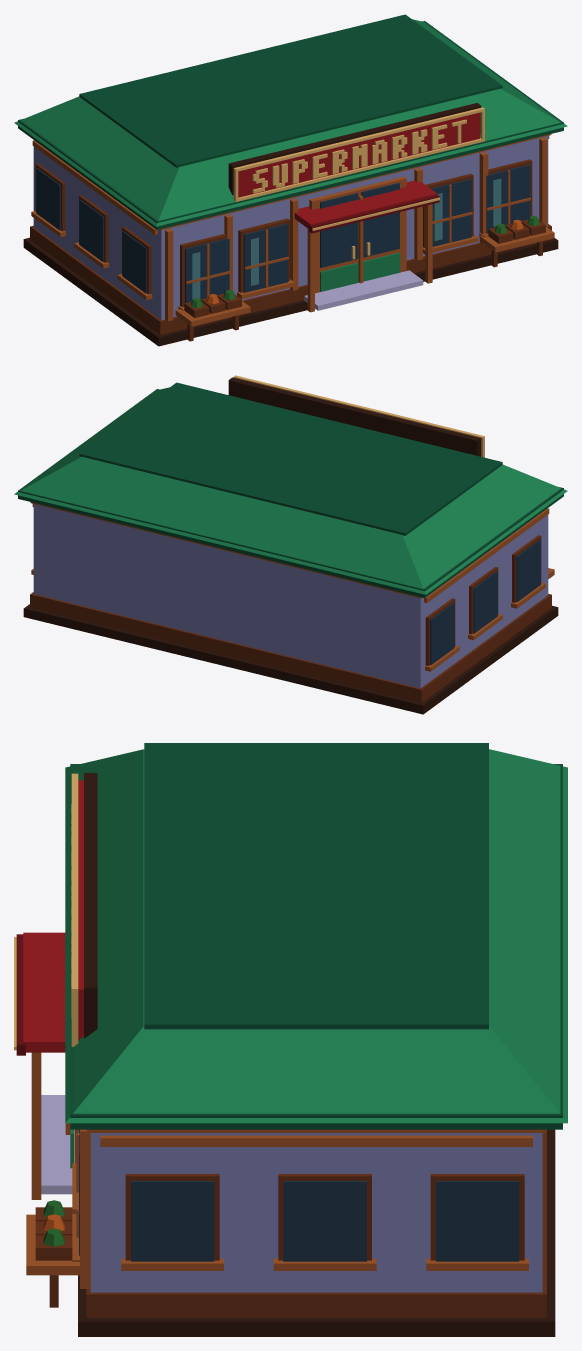
File: supermarket-large.glb
3 renders of one model, top to bottom at view 1: azimuth 30°, elevation 25°; view 2: azimuth 150°, elevation 25°; view 3: azimuth 270°, elevation 25°, orthographic. The views are drawn at different scales.
Visible parts, largest first — view 1: Supermarket; view 2: Supermarket; view 3: Supermarket.
Part boxes in pixels (<box>): Supermarket: <box>14,14,567,346</box>; Supermarket: <box>14,375,567,714</box>; Supermarket: <box>14,743,567,1336</box>.
Bounding box in the file's own units: 14.9 × 5.55 × 9.81.
1 material, 1 textured.
